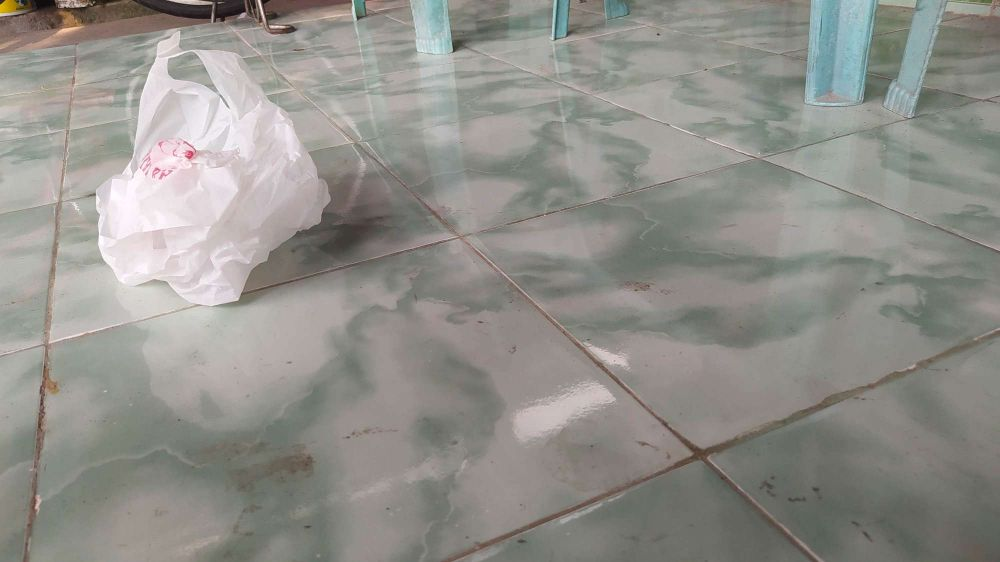plastik: (90, 34, 342, 304)
